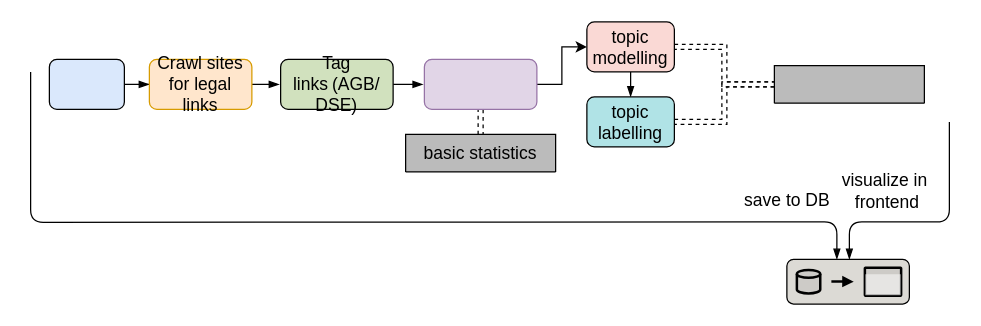
This 981x326 diagram has some shape labels left out. Here are the shapes that lost their labels. From the top down, the box of each, then its label:
(48, 58, 124, 109): Domain import
(423, 58, 537, 109): Extract legal texts
(773, 64, 924, 103): topics & labels
